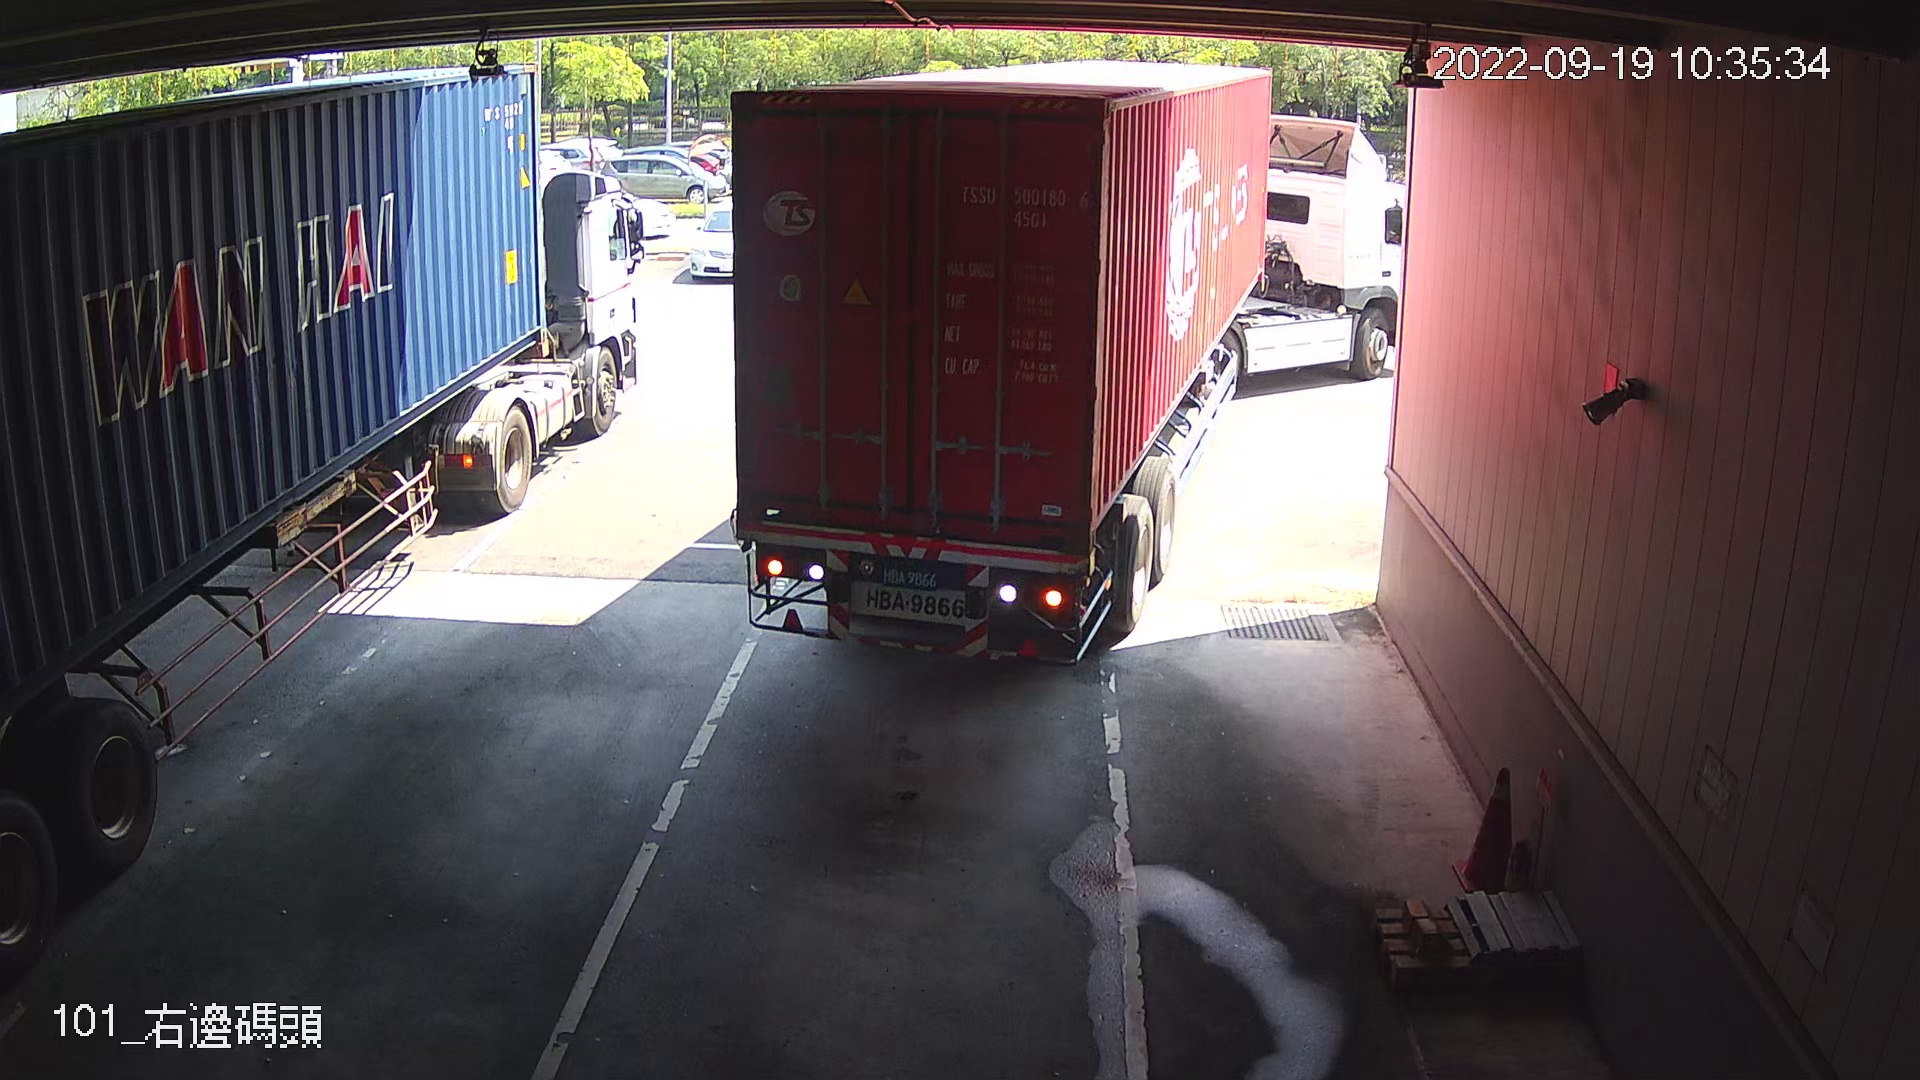container: (953, 175, 1098, 239)
